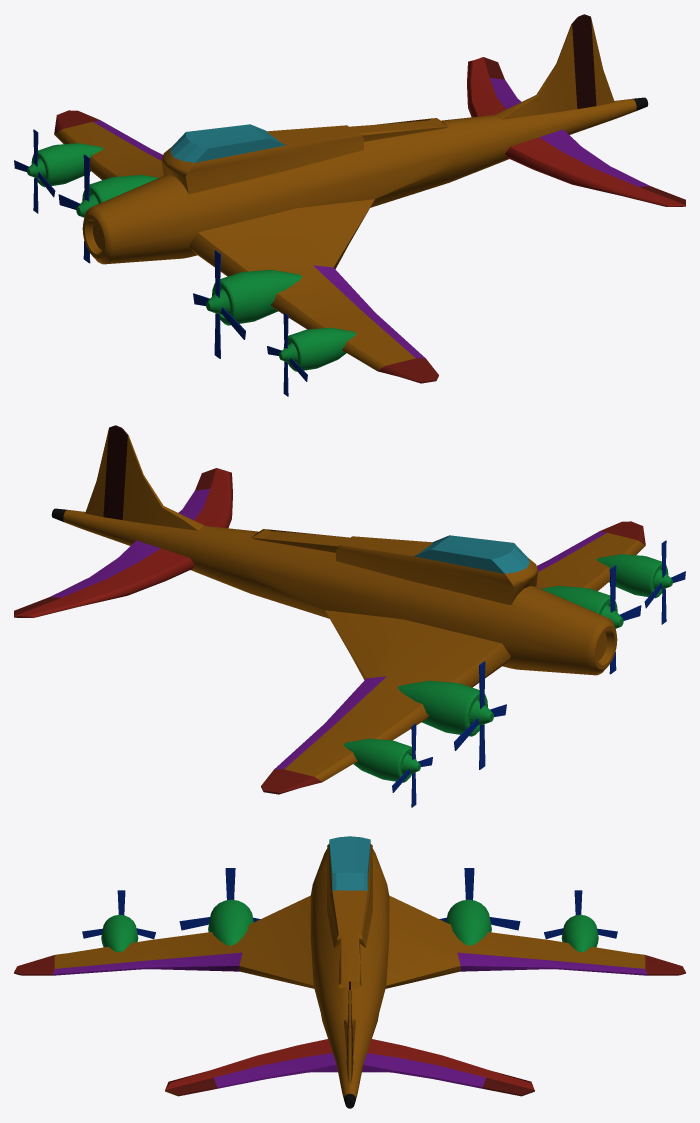
3 views of the same model, one above another, from view 1: azimuth 30°, elevation 25°; view 2: azimuth 150°, elevation 25°; view 3: azimuth 270°, elevation 25° (orthographic). The views are drawn at different scales.
Visible parts, largest first — view 1: pCylinder1 (×6), pCylinder2, pCylinder3, pCube5, pCube6; view 2: pCylinder1 (×6), pCylinder2, pCylinder3, pCube5, pCube6; view 3: pCylinder1 (×6), pCylinder2, pCylinder3, pCube5, pCube6.
Part boxes in pixels (left/top/right/bottom): pCylinder1 (×6): left=54, top=14, right=685, bottom=383; pCylinder2: left=76, top=175, right=301, bottom=325; pCylinder3: left=27, top=143, right=356, bottom=371; pCube5: left=58, top=154, right=245, bottom=358; pCube6: left=14, top=129, right=307, bottom=396; pCylinder1 (×6): left=14, top=425, right=645, bottom=794; pCylinder2: left=398, top=586, right=623, bottom=736; pCylinder3: left=343, top=554, right=672, bottom=782; pCube5: left=454, top=565, right=641, bottom=769; pCube6: left=392, top=540, right=685, bottom=807; pCylinder1 (×6): left=14, top=836, right=685, bottom=1098; pCylinder2: left=208, top=899, right=491, bottom=945; pCylinder3: left=101, top=914, right=598, bottom=952; pCube5: left=179, top=868, right=520, bottom=930; pCube6: left=82, top=890, right=617, bottom=939.
Bounding box in the file's own units: 19.91 × 6.53 × 22.99.
